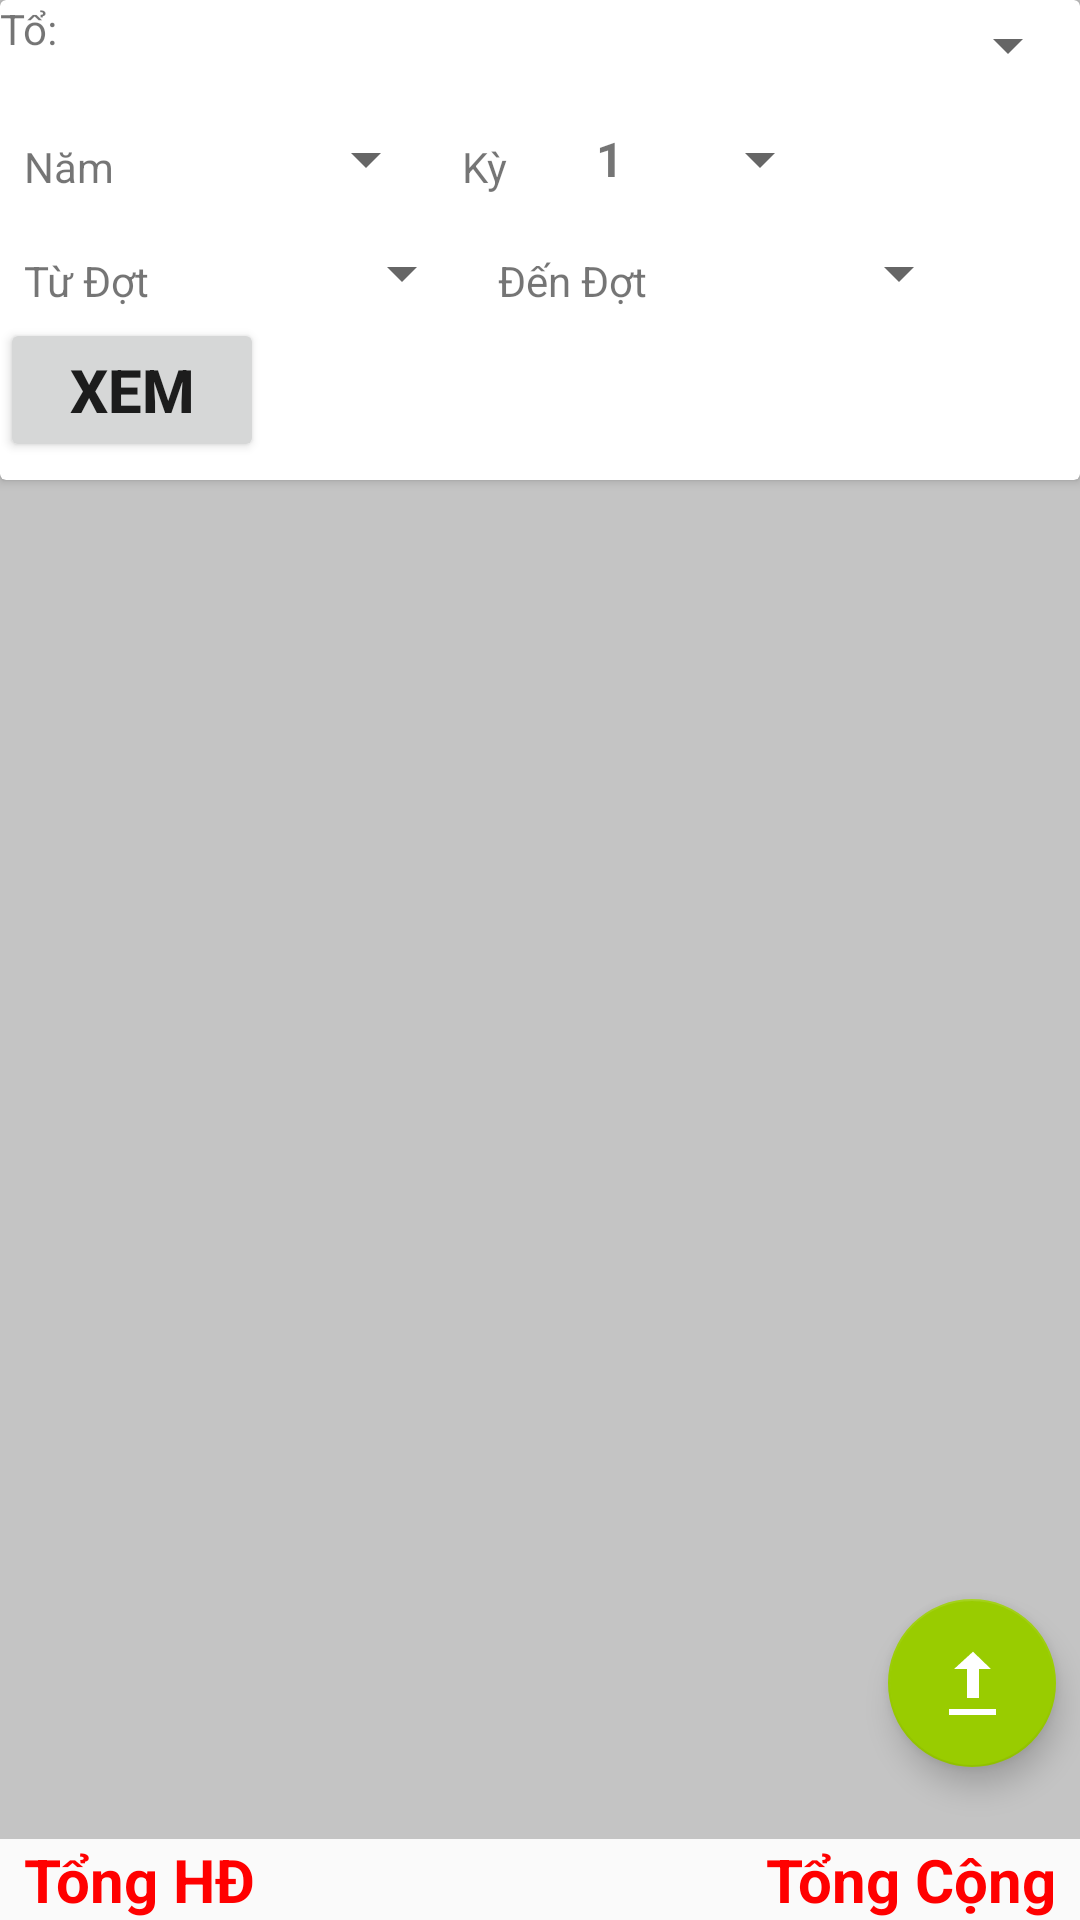

Point at icon controls on the screen. Image size 1080 × 1920, points as [x,y].
upload: [972,1683]
